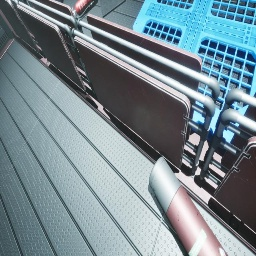FireExtinguisher ]: (72, 0, 96, 18)
NitrogenTank ,: (148, 156, 228, 256)
